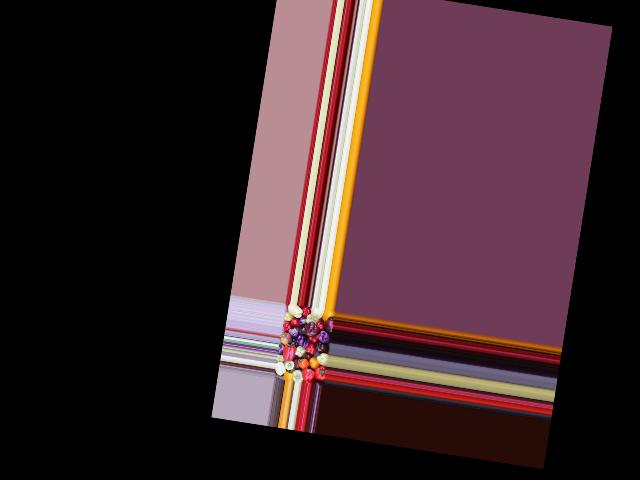bell_pepper: (293, 368, 304, 382)
